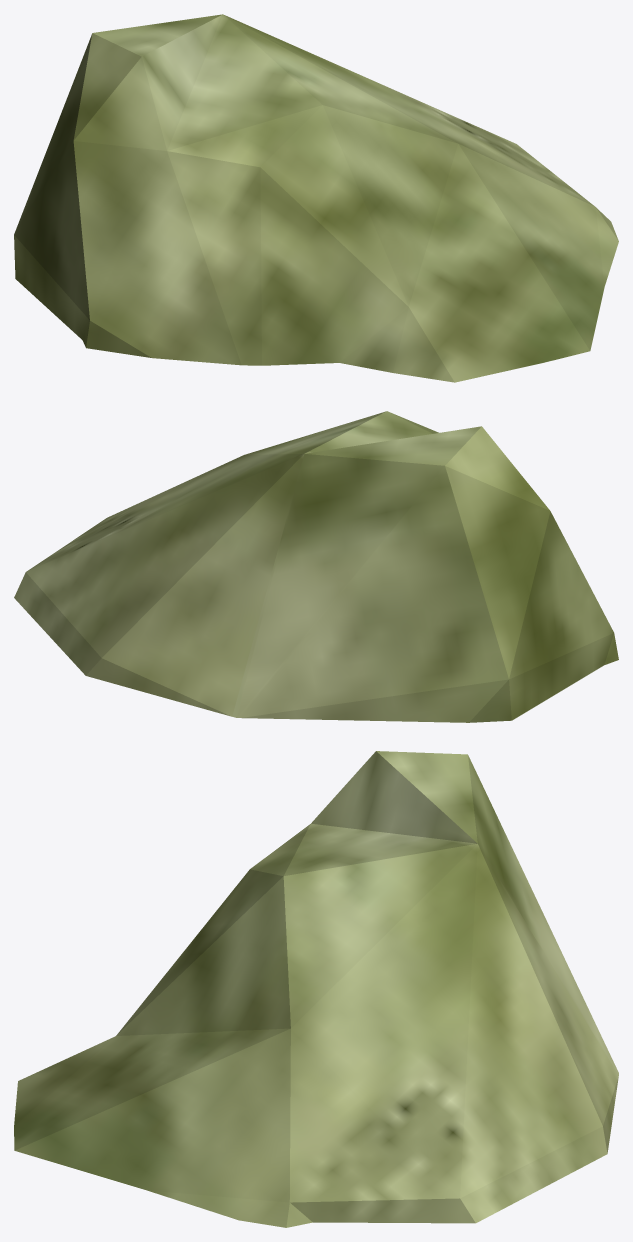
3 renders of one model, top to bottom at view 1: azimuth 30°, elevation 25°; view 2: azimuth 150°, elevation 25°; view 3: azimuth 270°, elevation 25°, orthographic. The views are drawn at different scales.
Size of the model in its own units: 0.5746 by 0.2502 by 0.5391.
Materials: 1 (1 with a texture image).
